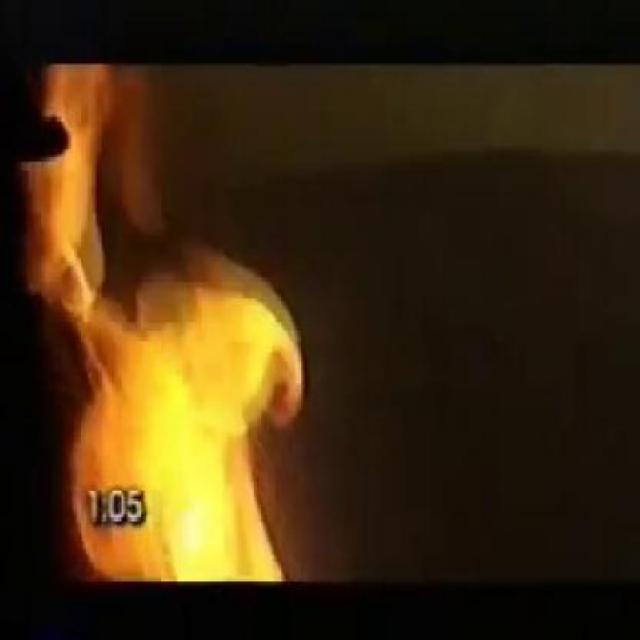fire: (24, 67, 308, 486), (150, 491, 298, 582)
